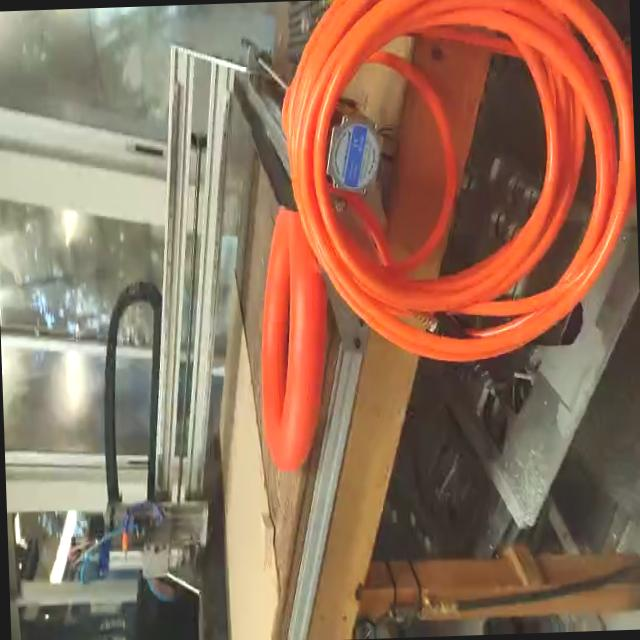note: (254, 210, 334, 475)
